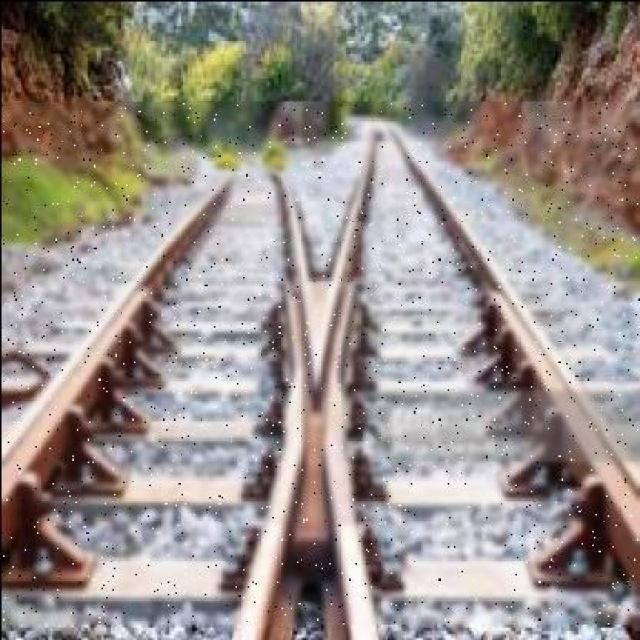rail: (0, 102, 638, 623)
